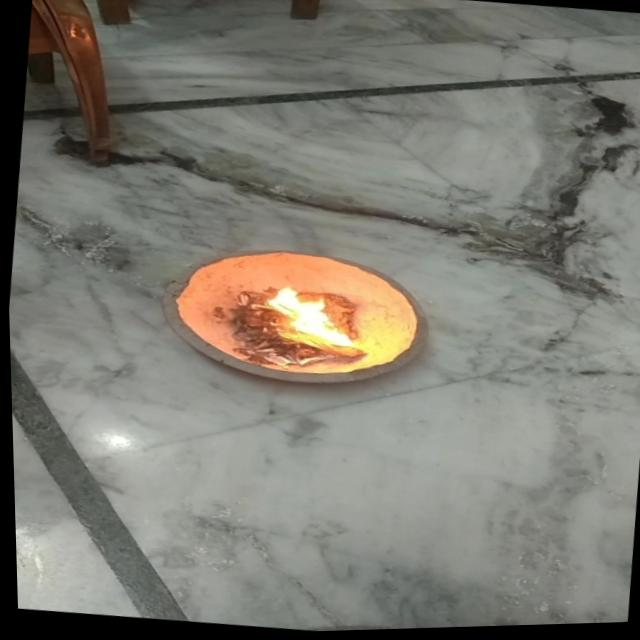fire: (237, 270, 356, 365)
